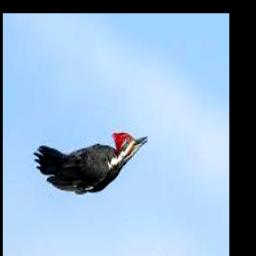Woodpecker: (32, 132, 147, 192)
